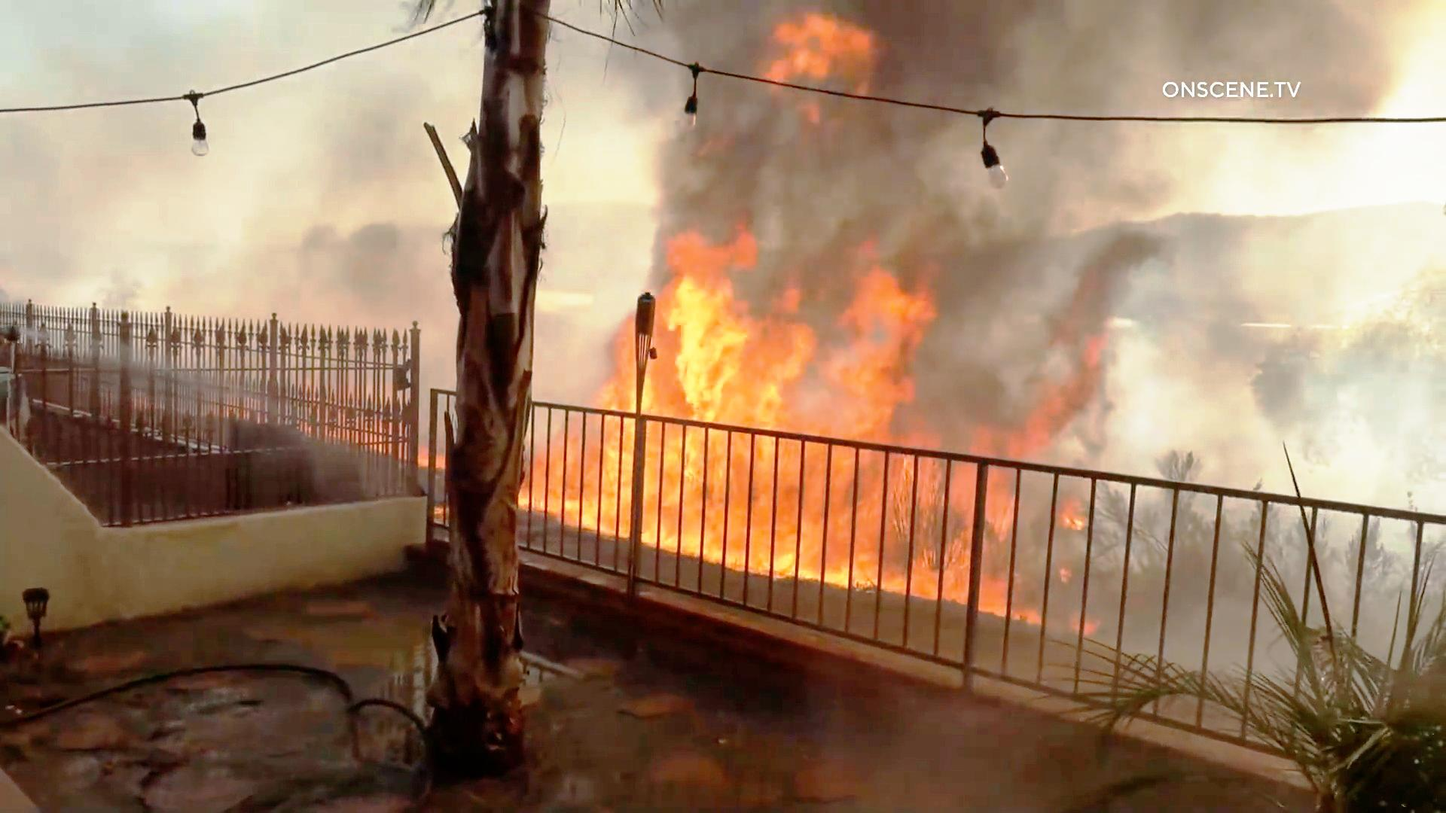fire: (810, 258, 1007, 610), (665, 251, 801, 571), (782, 15, 855, 107)
smoke: (1021, 136, 1209, 282), (725, 128, 971, 232), (245, 200, 421, 324), (880, 27, 1156, 100)
